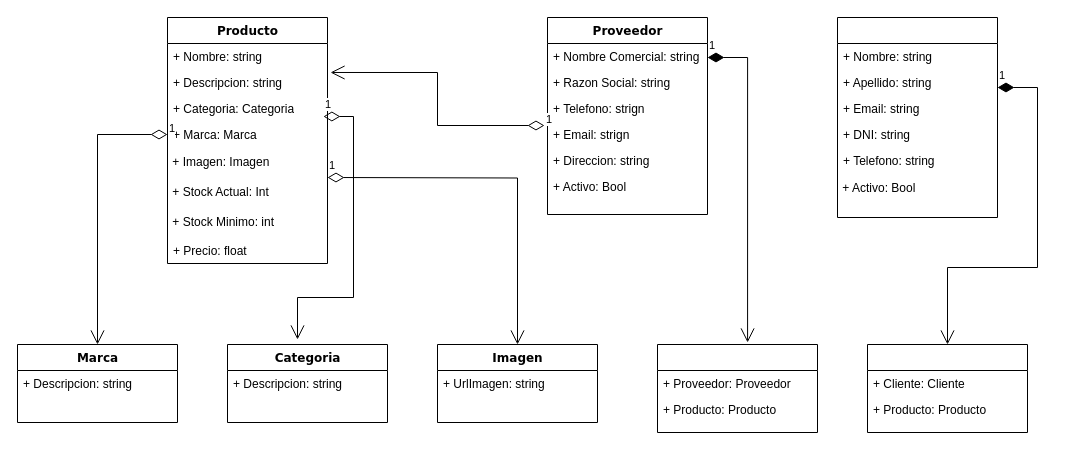
Image size: 1072x450. Some labels were removed from this diagram. Here are the shapes that lost their labels. From the top down, the box of each, then its label:
(836, 16, 998, 218): Cliente
(656, 344, 818, 432): Compra
(866, 344, 1028, 432): Venta
